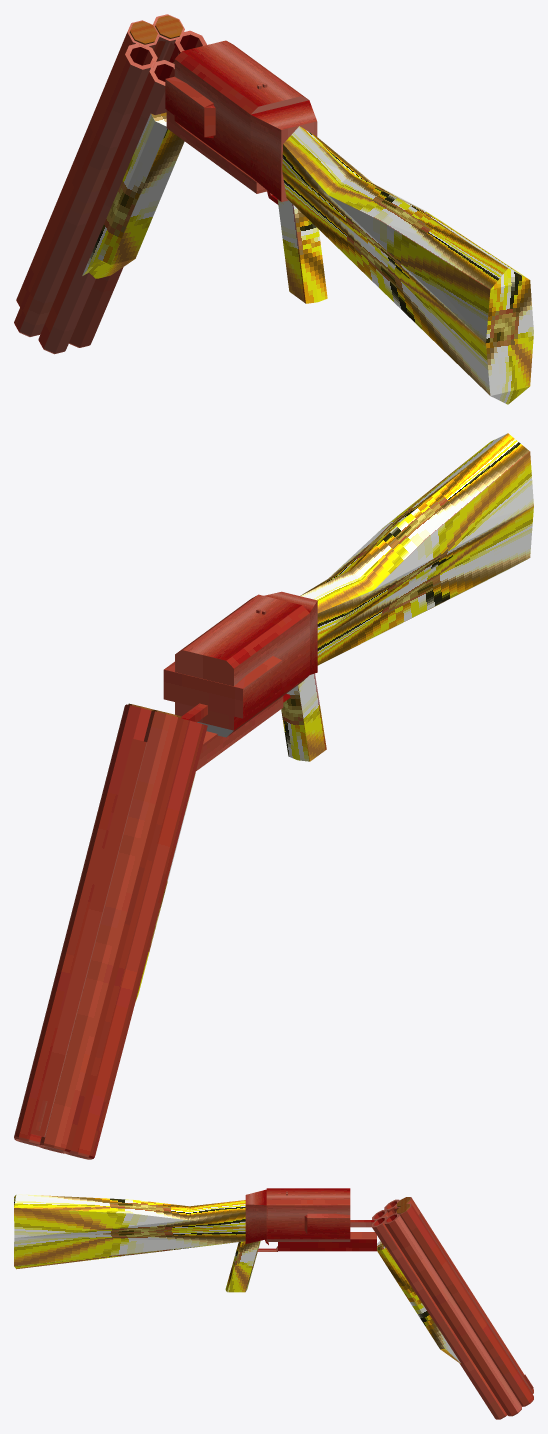
File: six_barrels_shotgun_reloading_2.obj
3 renders of one model, top to bottom at view 1: azimuth 30°, elevation 25°; view 2: azimuth 150°, elevation 25°; view 3: azimuth 270°, elevation 25°, orthographic. The views are drawn at different scales.
Visible parts, largest first — view 1: Torus.009_Torus.008, Torus.000, Torus.001, Torus.002; view 2: Torus.009_Torus.008, Torus.000; view 3: Torus.009_Torus.008, Torus.000.
Part boxes in pixels (x1,y1,x2,y2): Torus.009_Torus.008: (165,40,533,404); Torus.000: (14,14,206,354); Torus.001: (155,15,183,38); Torus.002: (129,21,157,44); Torus.009_Torus.008: (163,433,533,770); Torus.000: (14,704,207,1159); Torus.009_Torus.008: (14,1188,376,1292); Torus.000: (372,1197,533,1419).
Bounding box in the file's own units: 0.6336 × 3.09 × 6.56.
